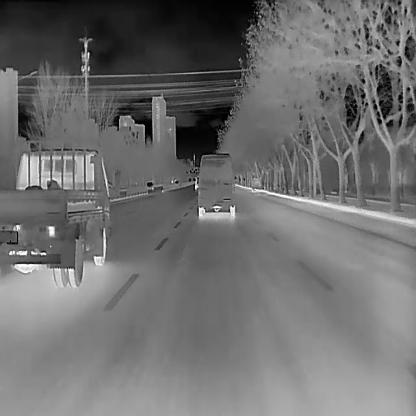car: (0, 141, 120, 288), (196, 151, 235, 218), (251, 176, 261, 189), (146, 181, 153, 189)
